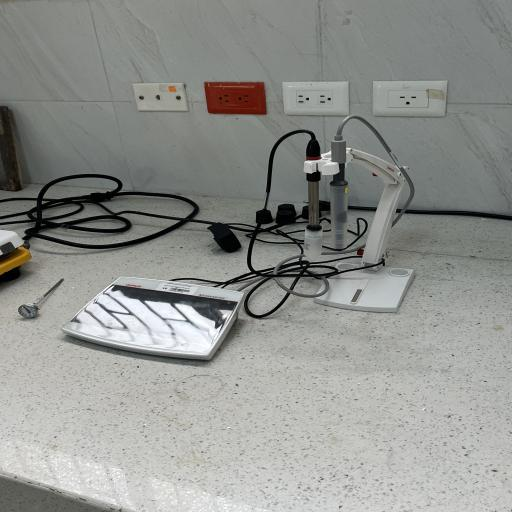Phmetro_Ohaus: (58, 271, 252, 372)
